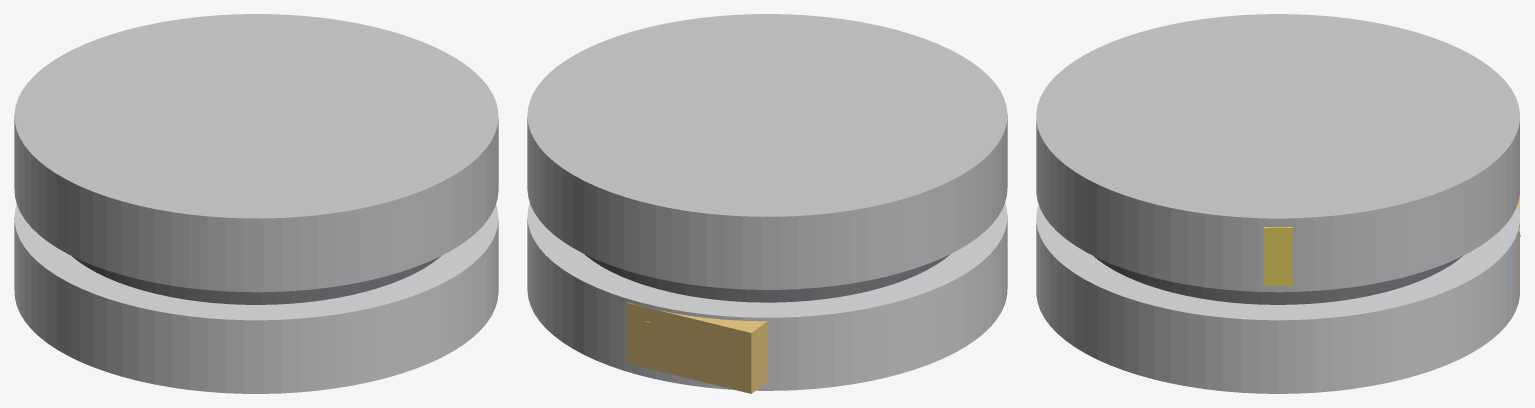
The model's file is robo01_rotor_s.glb.
3 renders of one model, left to right at view 1: azimuth 30°, elevation 25°; view 2: azimuth 150°, elevation 25°; view 3: azimuth 270°, elevation 25°, orthographic.
Visible parts, largest first — view 1: half_b_rotor, base, bearing; view 2: half_b_rotor, base, drive, bearing; view 3: half_b_rotor, base, bearing, half_b_mark.
Boxes of the visible parts, left/top/right/bottom form: half_b_rotor: left=14, top=14, right=498, bottom=292; base: left=14, top=204, right=498, bottom=393; bearing: left=72, top=256, right=440, bottom=304; half_b_rotor: left=527, top=14, right=1007, bottom=289; base: left=527, top=202, right=1007, bottom=390; drive: left=626, top=302, right=767, bottom=393; bearing: left=585, top=254, right=950, bottom=302; half_b_rotor: left=1036, top=14, right=1519, bottom=292; base: left=1036, top=204, right=1519, bottom=393; bearing: left=1093, top=256, right=1462, bottom=304; half_b_mark: left=1263, top=227, right=1292, bottom=285.
Size of the model in its own units: 0.627 by 0.25 by 0.6254.
